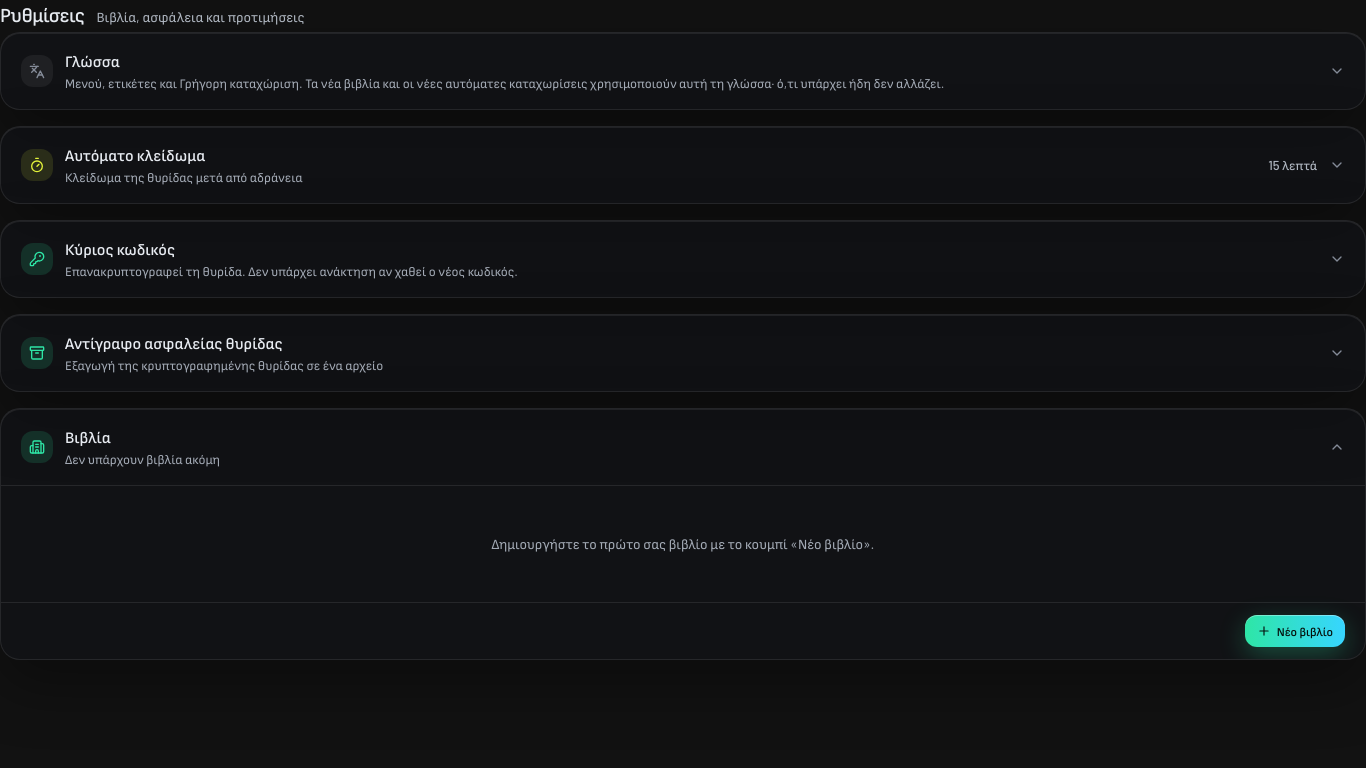
SettingsPage i18n › heading and language chrome render Writer el catalog
expect the heading "Ρυθμίσεις" is shown: met, box [0, 0, 84, 28]
expect the heading "Γλώσσα" is shown: met, box [65, 51, 120, 70]
What coordinates should you click on to do the following:
click the button "Γλώσσα"
I would click on:
 (37, 71)
Its box is [1, 33, 1365, 109].
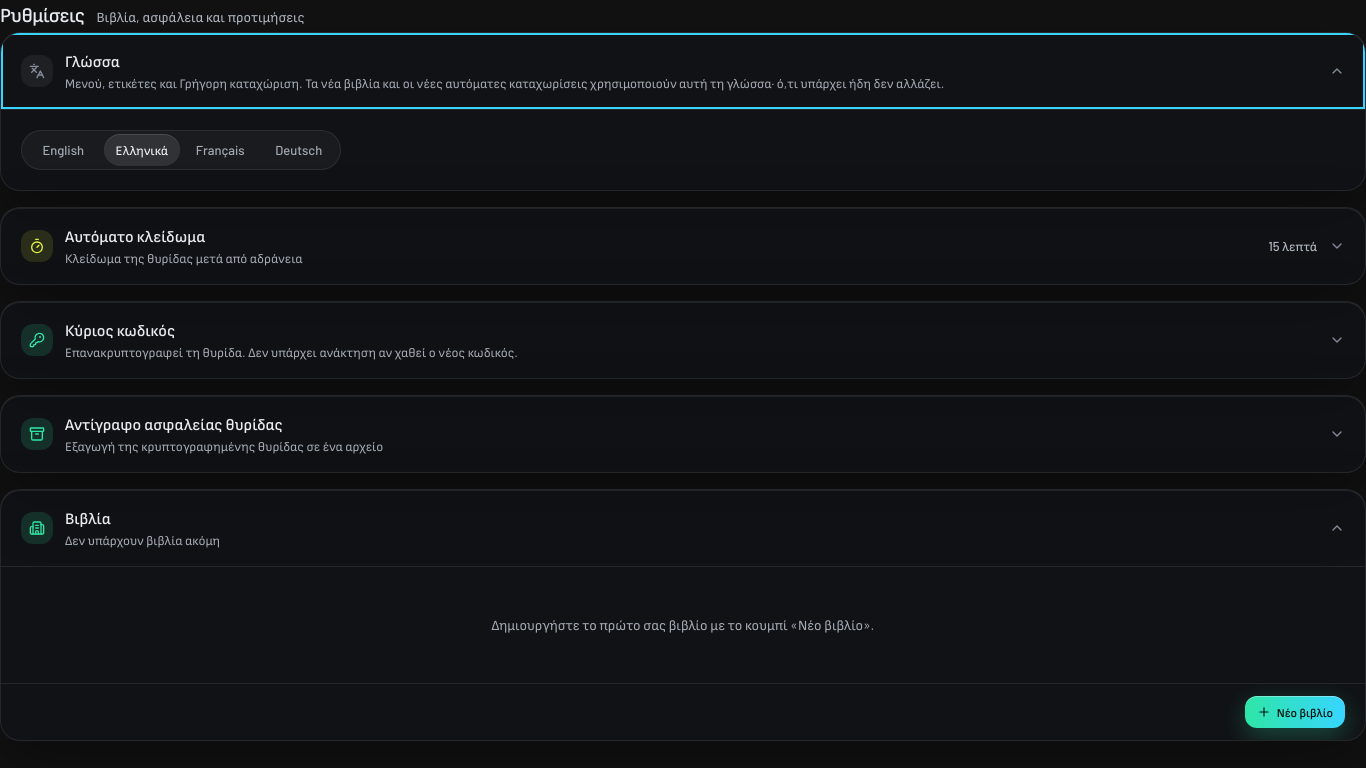
expect the radio button labelled "English" is shown: met, box [25, 134, 102, 166]
expect the radio button labelled "Ελληνικά" is shown: met, box [104, 134, 180, 166]
expect the radio button labelled "Français" is shown: met, box [182, 134, 258, 166]
